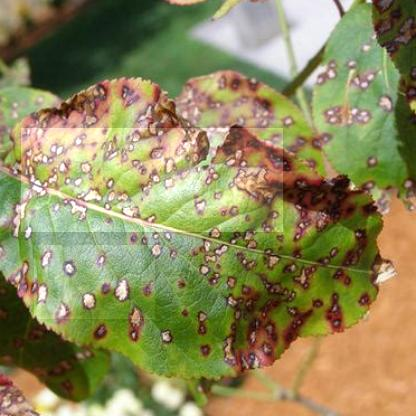black-spot: (21, 128, 283, 233), (34, 245, 155, 320)
